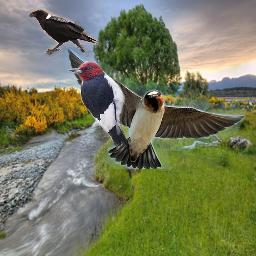Crow: (28, 8, 98, 57)
Swallow: (65, 46, 245, 169)
Woodpecker: (68, 61, 127, 147)
